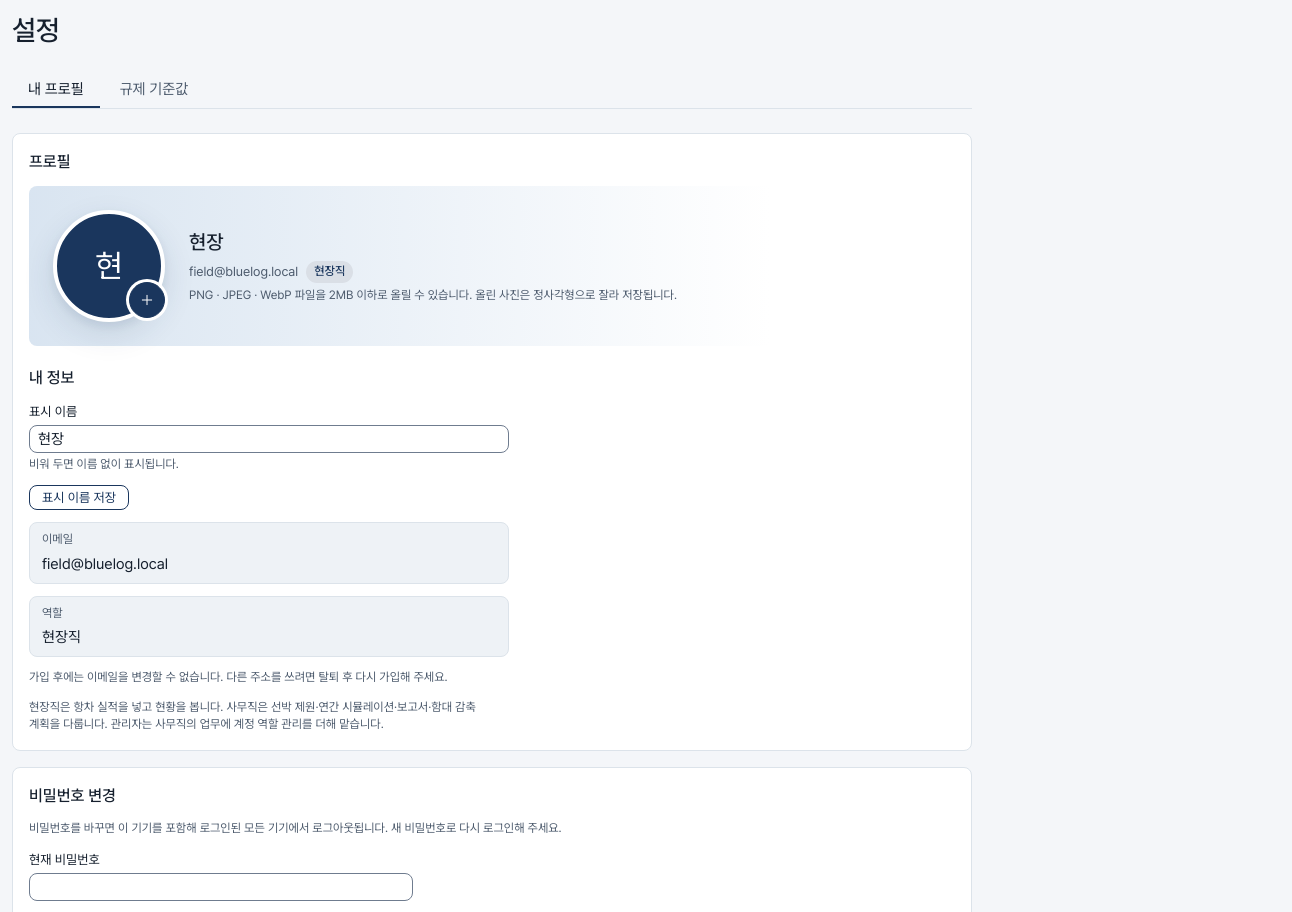
Test: 조회는 세 역할 모두 (`#1239` 결정 D) › 현장직 세션에서도 설정 화면에 절이 있다
The image size is (1292, 912).
Step 1. Click the tab "규제 기준값" → click(154, 90), box x1=104 y1=72 x2=204 y2=108
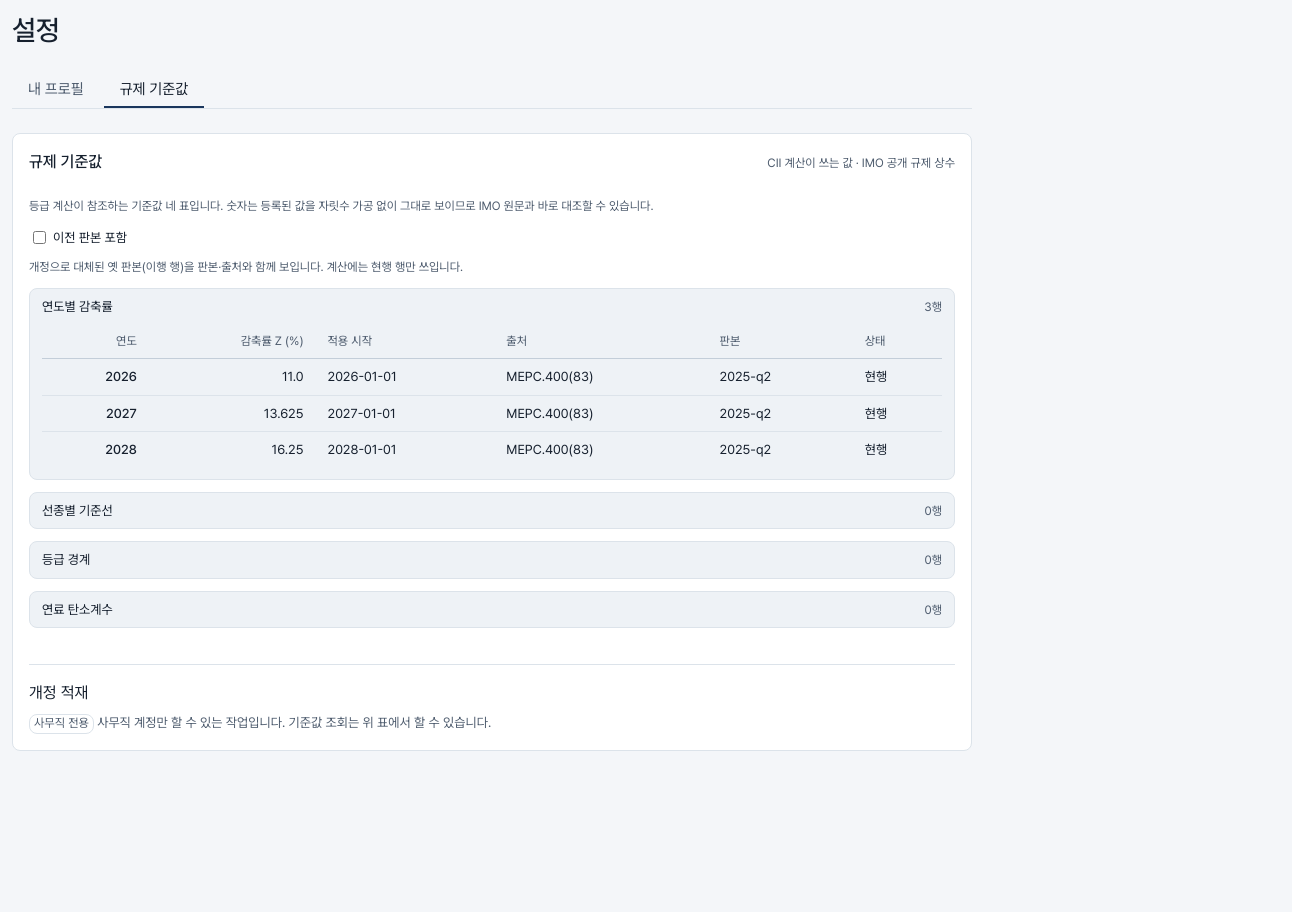
Expected: the checkbox with test id "regp-include-inactive" is shown, x1=33 y1=231 x2=46 y2=244
